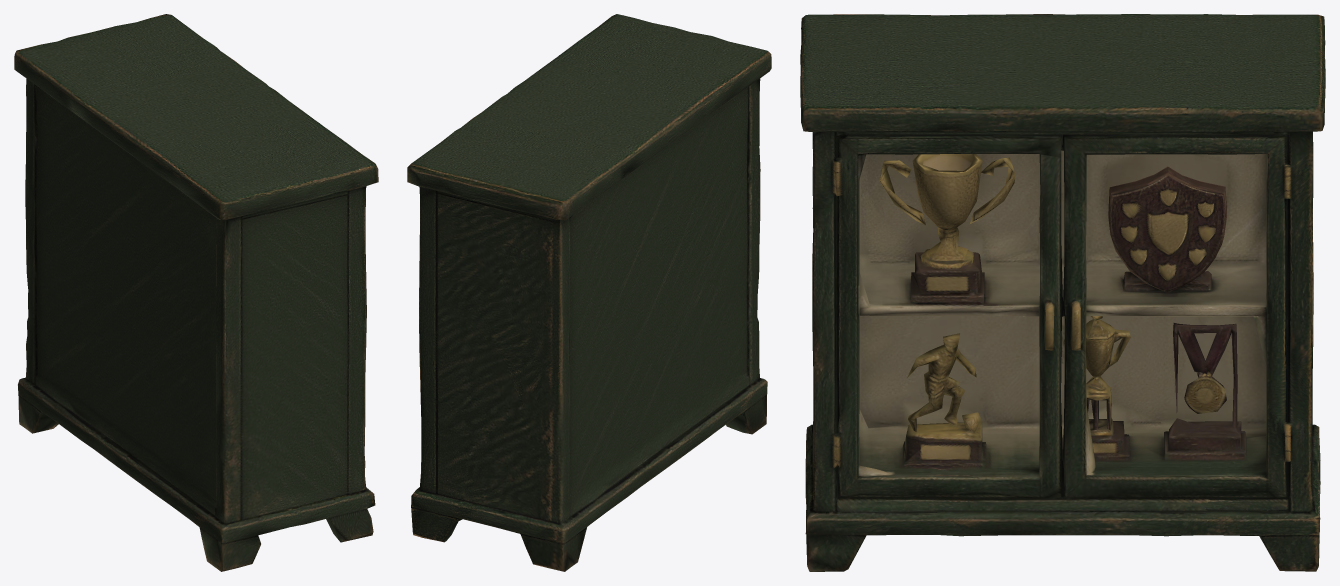
Rendered from TrophyCabinet.fbx.
3 views of the same model, side by side, from view 1: azimuth 30°, elevation 25°; view 2: azimuth 150°, elevation 25°; view 3: azimuth 270°, elevation 25° (orthographic). The views are drawn at different scales.
Parts seen in each view (by area): view 1: tripo_node_50804416-39a0-4f0c-85a8-89acfbe20cb5; view 2: tripo_node_50804416-39a0-4f0c-85a8-89acfbe20cb5; view 3: tripo_node_50804416-39a0-4f0c-85a8-89acfbe20cb5.
Boxes of the visible parts, x1,y1,x2,y2 form: tripo_node_50804416-39a0-4f0c-85a8-89acfbe20cb5: (14,14,378,571); tripo_node_50804416-39a0-4f0c-85a8-89acfbe20cb5: (407,14,771,571); tripo_node_50804416-39a0-4f0c-85a8-89acfbe20cb5: (800,14,1325,571).
Size of the model in its own units: 43.82 by 97.99 by 100.
1 material, 1 textured.
